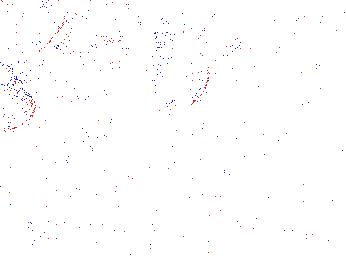moon jellyfish: (65, 1, 182, 61), (149, 23, 210, 112), (1, 1, 70, 65), (1, 84, 37, 134)
